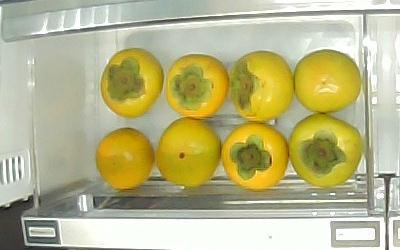persimmon: (289, 113, 363, 190), (230, 49, 294, 123), (157, 117, 222, 189), (221, 123, 289, 190), (99, 48, 163, 118), (293, 49, 362, 113), (165, 52, 229, 119), (95, 128, 155, 190)
